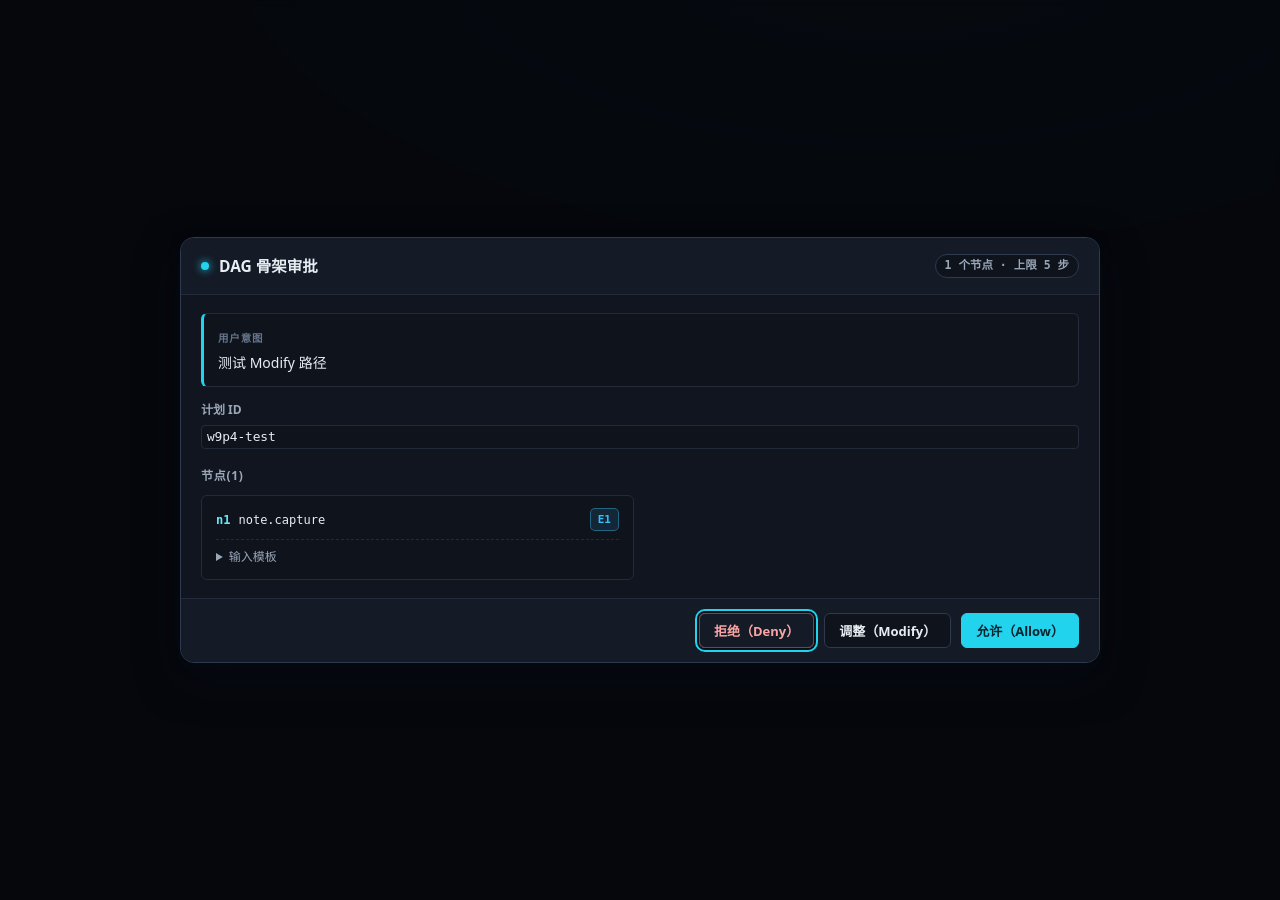
it: DagApprovalDialog Modify path › add_node_increases_editedNodes_length
Click the button with aria-label "调整 DAG 节点" at [888, 630], box [824,613,951,648]
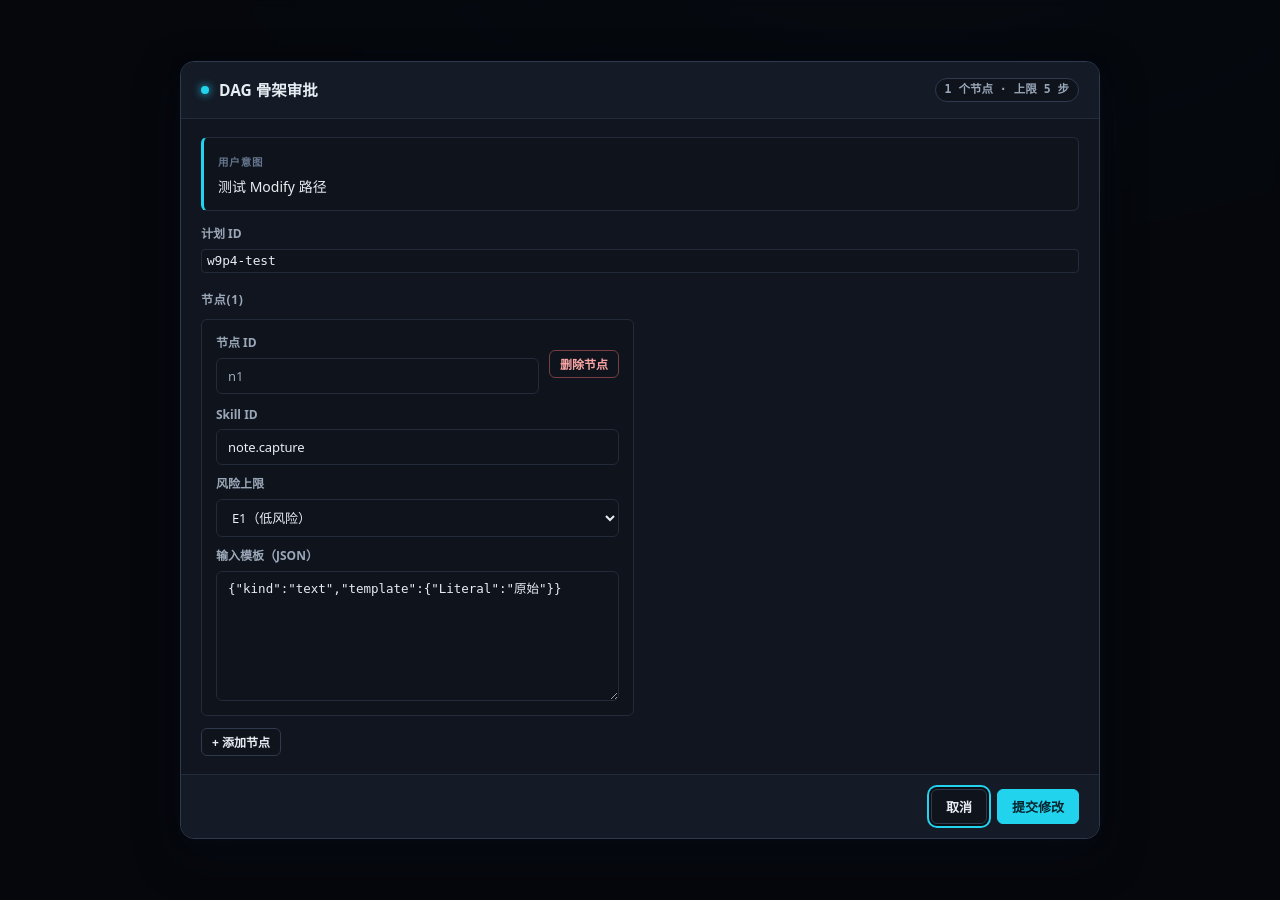
Click the button with aria-label "添加新节点" at [241, 742], box [201,728,281,756]
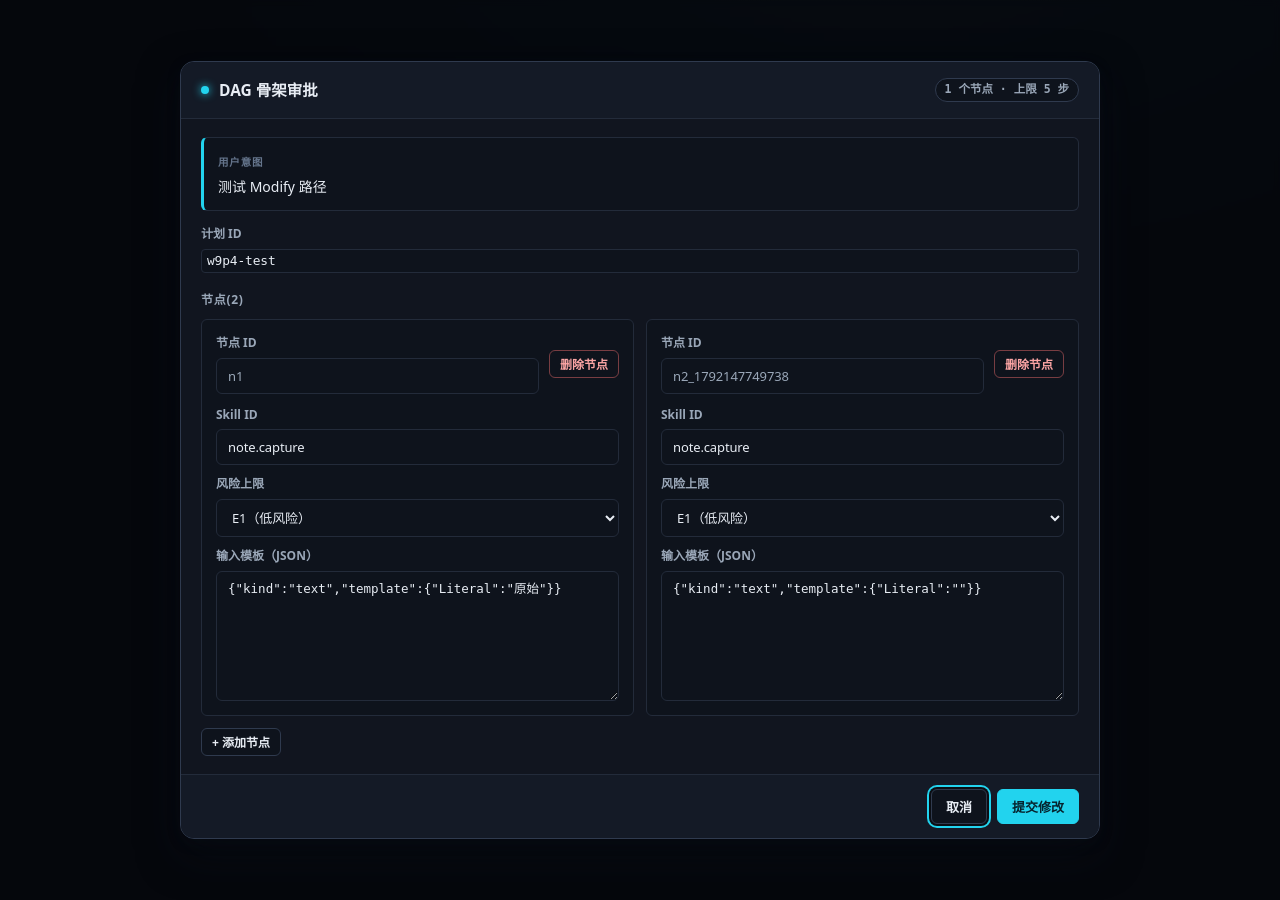
Expected: the number of elements "节点 ID 删除节点 Skill ID 风险上限 输入模板（JSON）" is 2, [201,319,634,716]; [646,319,1079,716]
